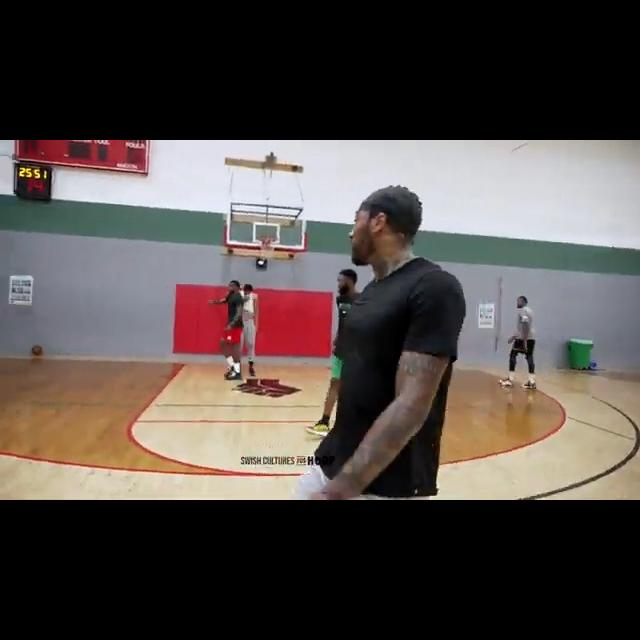hoop: (257, 235, 277, 258)
person: (292, 177, 468, 500), (303, 265, 364, 437), (498, 286, 542, 393), (238, 284, 267, 379), (221, 281, 247, 386)
